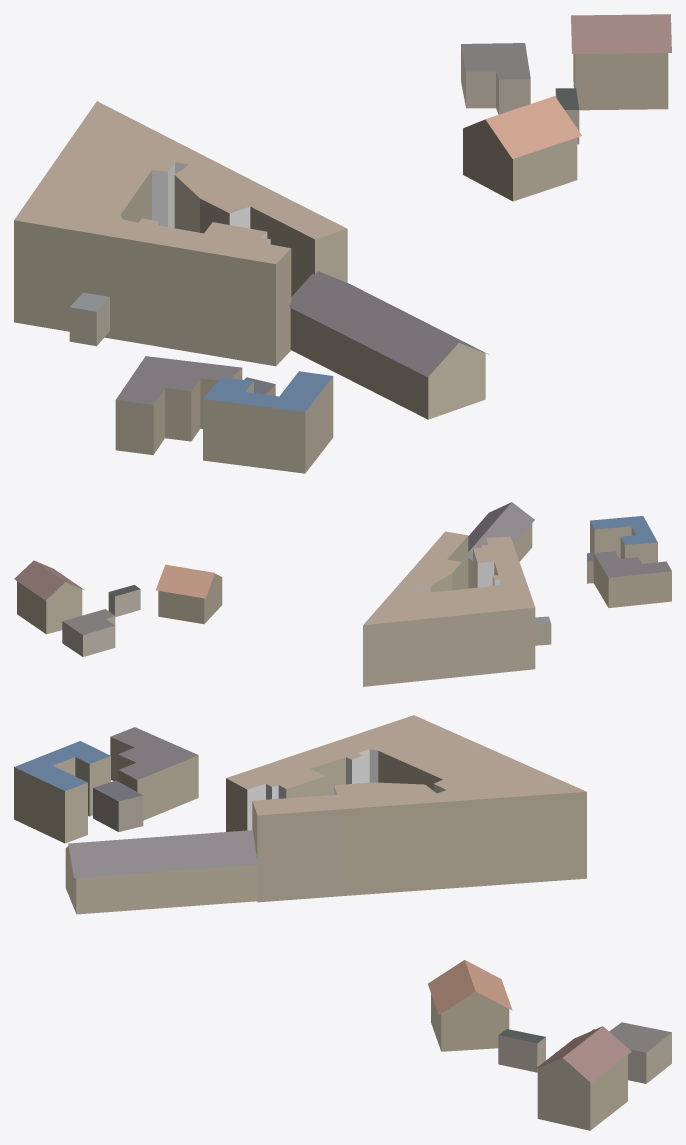
The picture shows the model from 3 angles, top to bottom: view 1: azimuth 30°, elevation 25°; view 2: azimuth 150°, elevation 25°; view 3: azimuth 270°, elevation 25°; orthographic projection. The views are drawn at different scales.
Visible parts, largest first — view 1: tuile; view 2: tuile; view 3: tuile.
Part boxes in pixels (left/top/right/bottom): tuile: left=14, top=14, right=671, bottom=473; tuile: left=14, top=502, right=671, bottom=686; tuile: left=14, top=715, right=671, bottom=1130.
Size of the model in its own units: 94.97 by 13.18 by 77.3.
